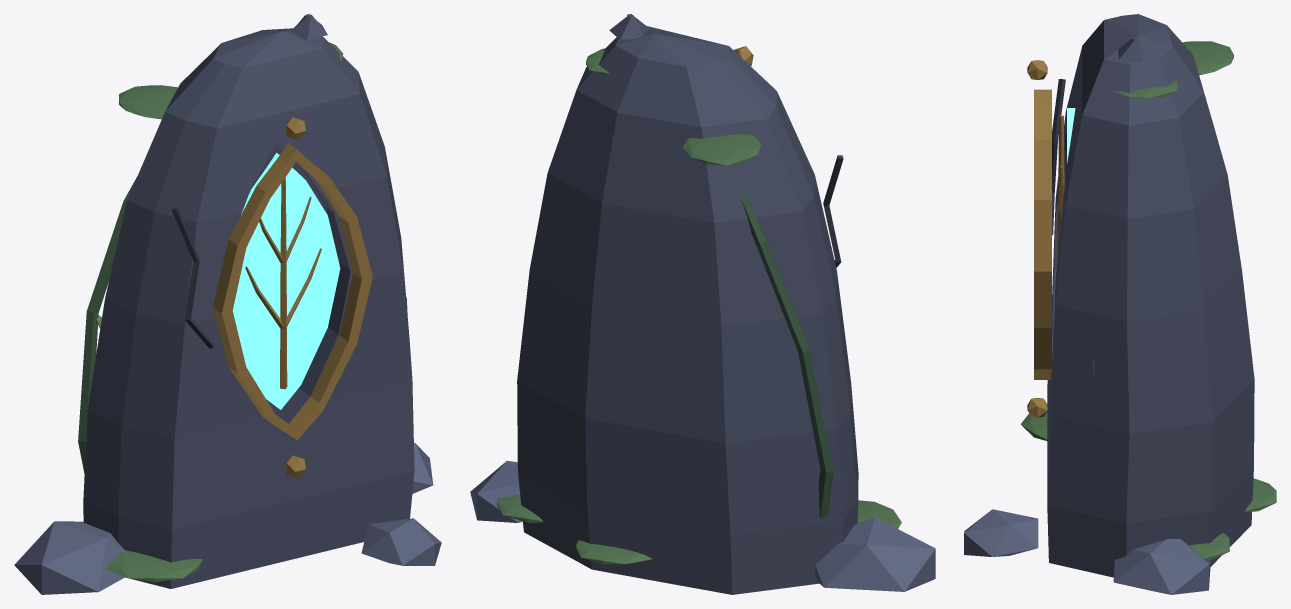
File: memory_shard.glb
3 views of the same model, side by side, from view 1: azimuth 30°, elevation 25°; view 2: azimuth 150°, elevation 25°; view 3: azimuth 270°, elevation 25° (orthographic).
Parts seen in each view (by area): view 1: memory_shard; view 2: memory_shard; view 3: memory_shard.
Boxes of the visible parts, box(x1,y1,x2,y2) form: memory_shard: box(14, 14, 441, 594); memory_shard: box(470, 14, 935, 594); memory_shard: box(964, 14, 1276, 594).
Bounding box in the file's own units: 1.64 × 1.84 × 1.05.
